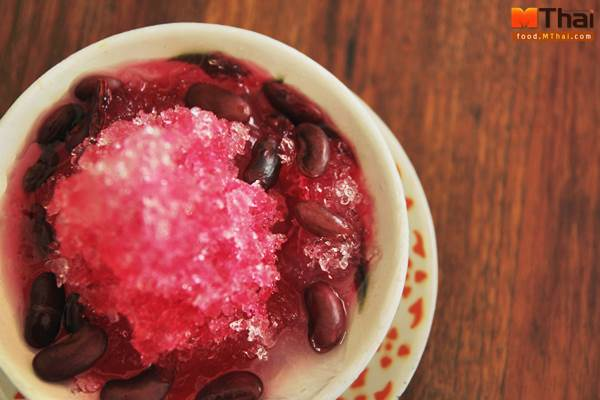O-eo: (2, 30, 389, 400)
